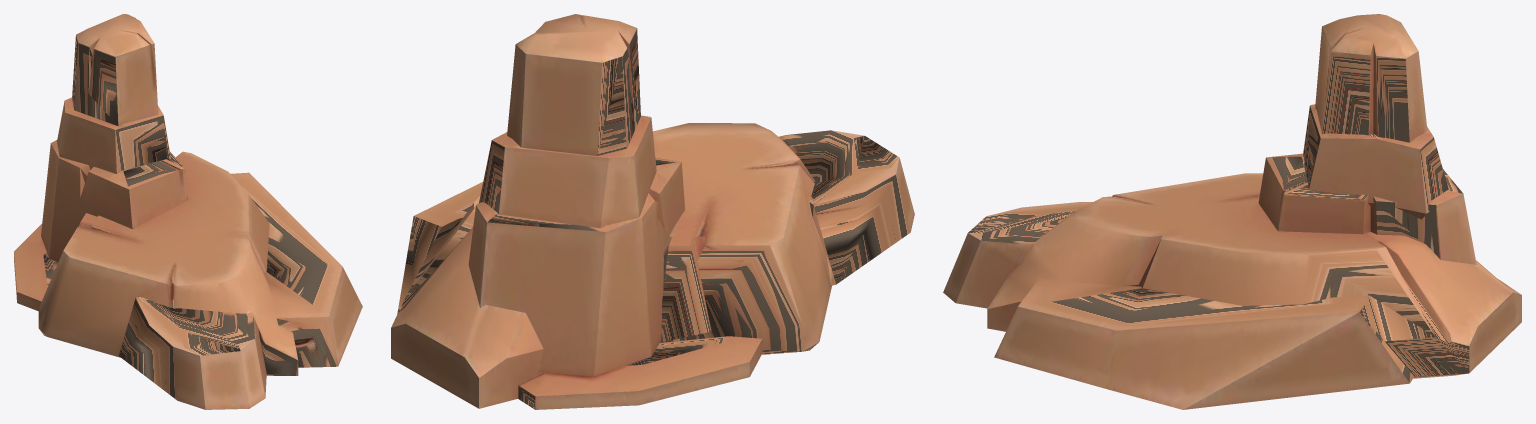
The model's file is desert-rock-07.glb.
3 views of the same model, side by side, from view 1: azimuth 30°, elevation 25°; view 2: azimuth 150°, elevation 25°; view 3: azimuth 270°, elevation 25° (orthographic). The views are drawn at different scales.
Parts seen in each view (by area): view 1: Rock_8; view 2: Rock_8; view 3: Rock_8.
Boxes of the visible parts, x1,y1,x2,y2 form: Rock_8: (14,14,362,409); Rock_8: (391,14,914,409); Rock_8: (943,14,1521,409).
Size of the model in its own units: 4.39 by 3.8 by 6.75.
1 material, 1 textured.
